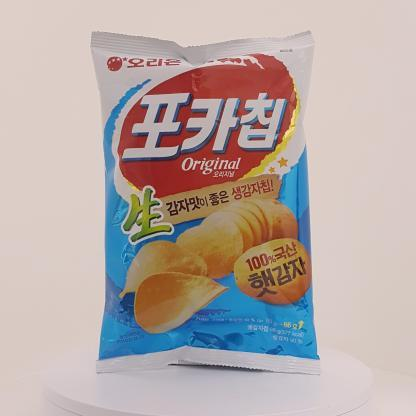Plastic Packaging: (81, 20, 344, 382)
